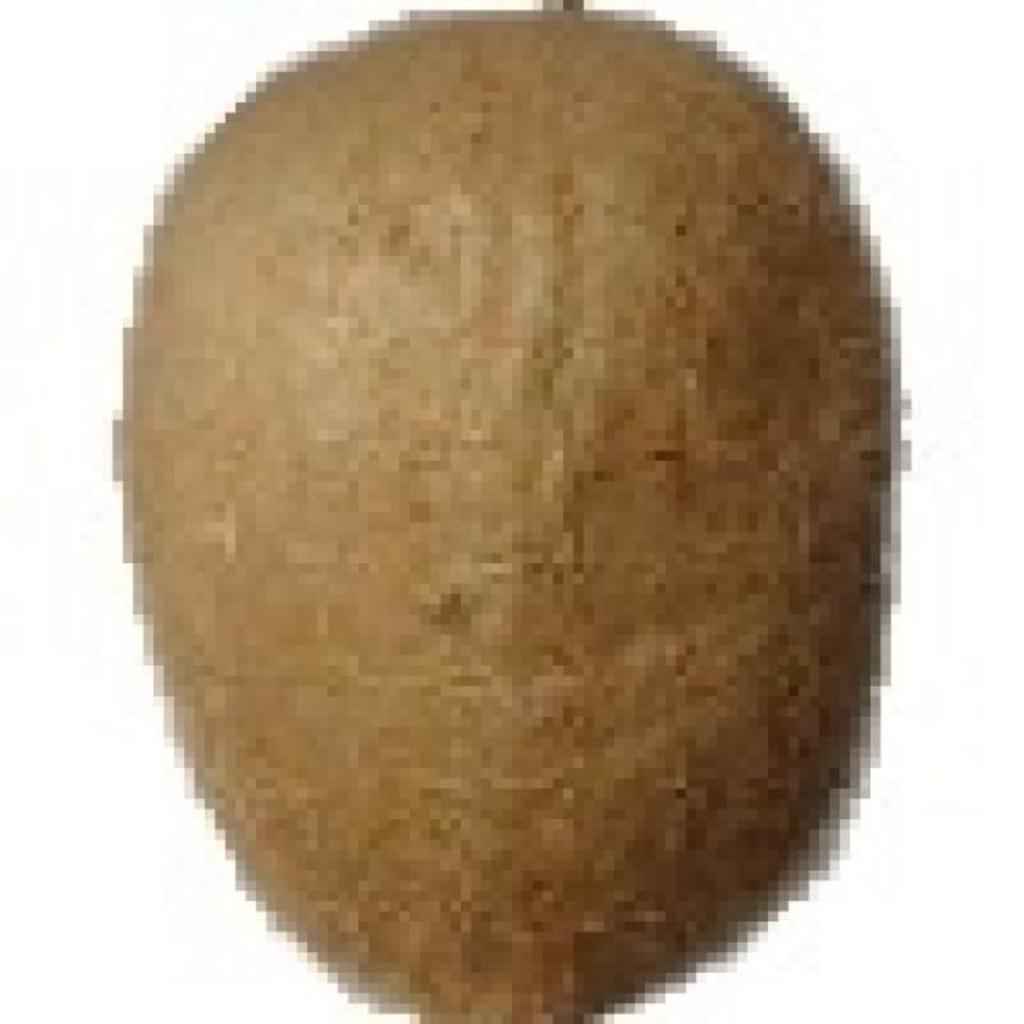kiwi: (113, 0, 870, 1004)
